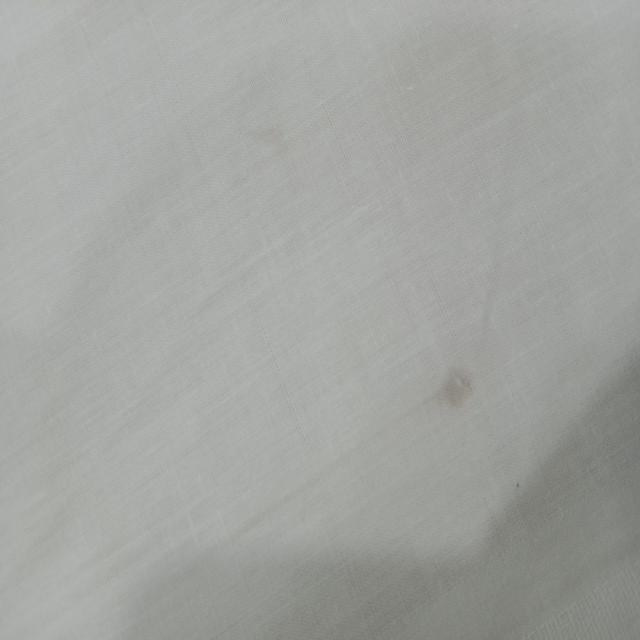stain: (426, 360, 478, 413)
